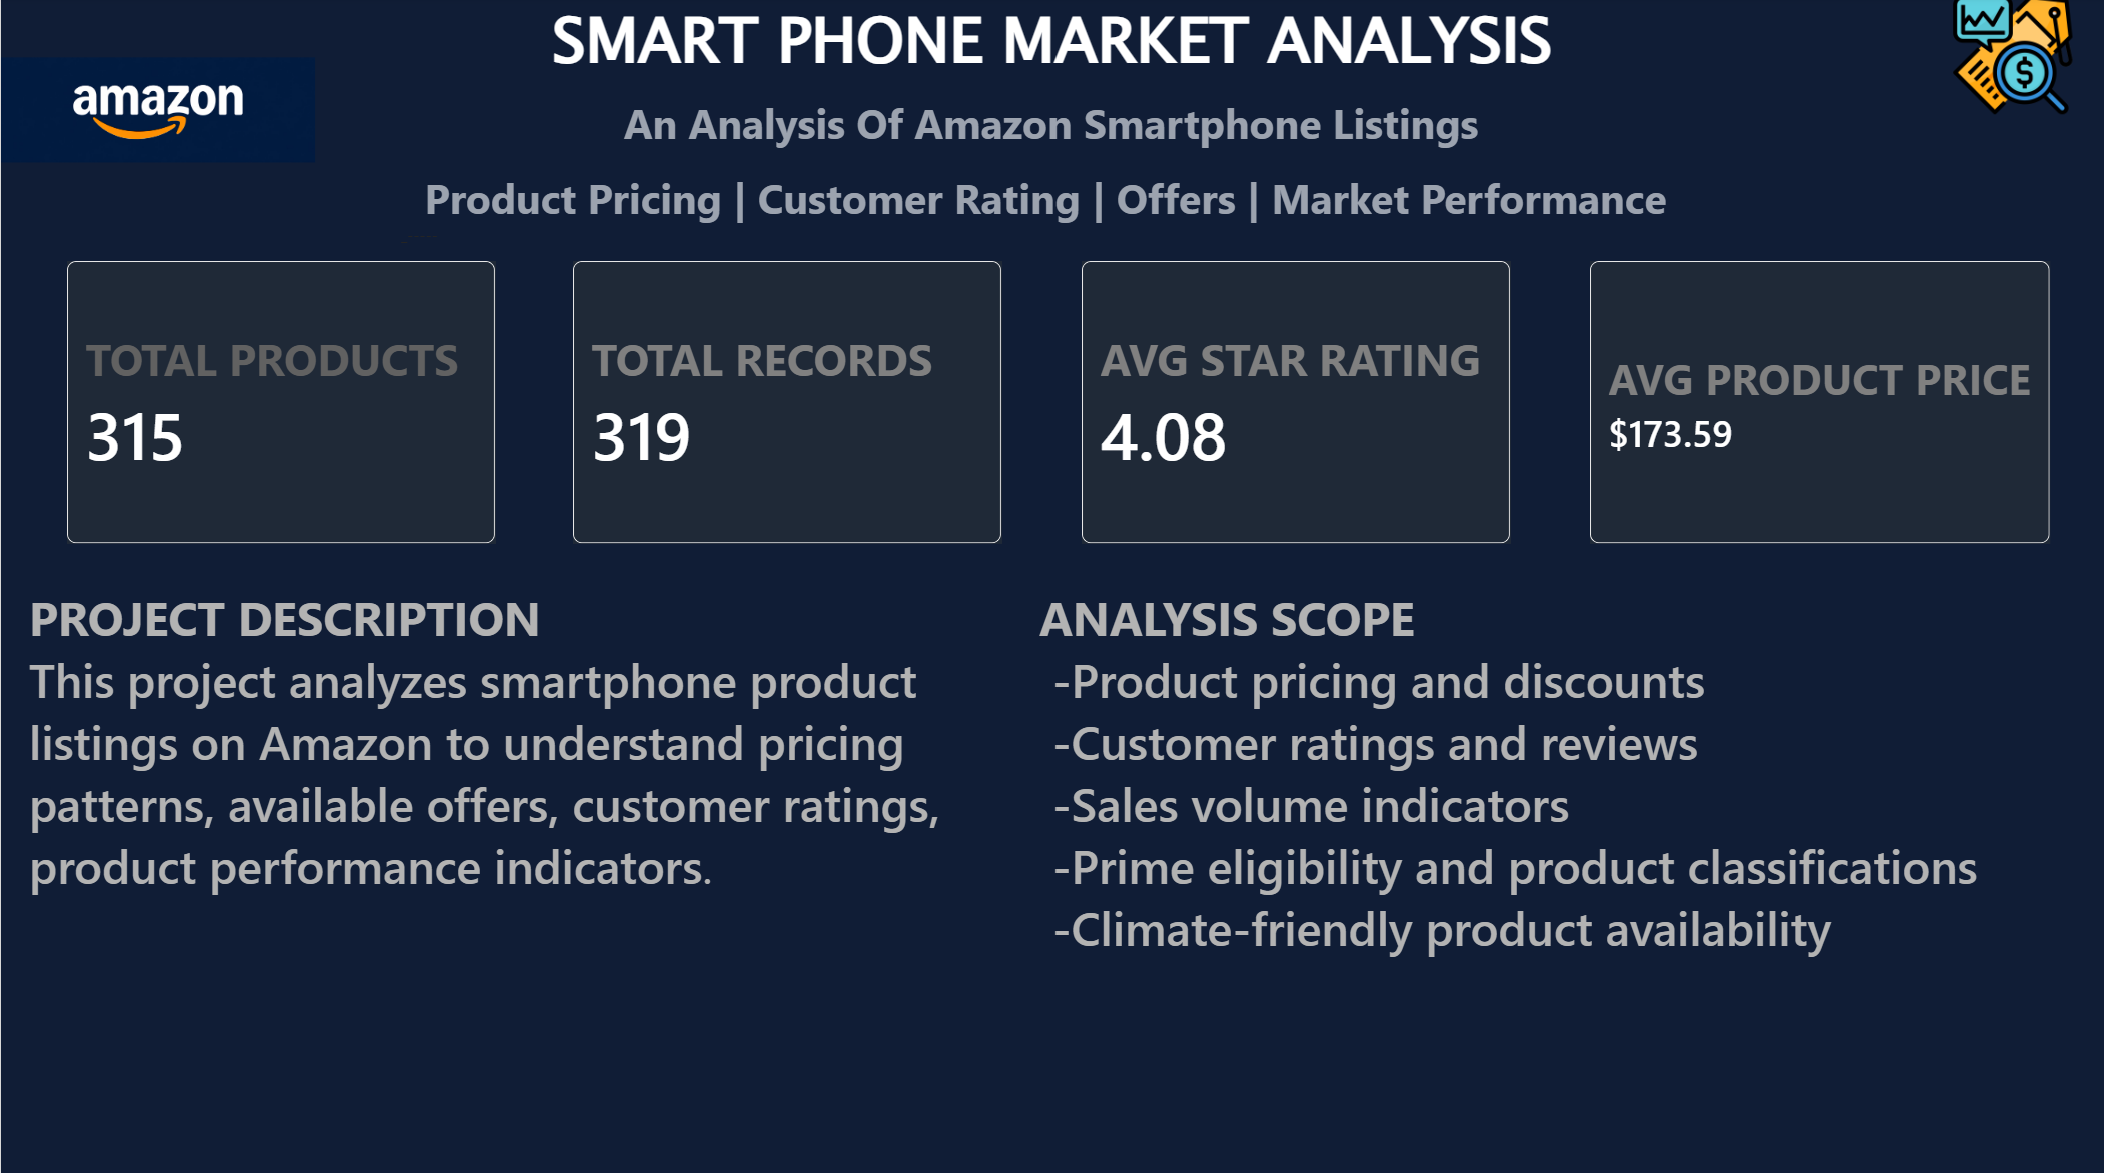

The page's visual inventory and layout, read from the dashboard file:
{"tool":"powerbi","page":{"name":"Overview","canvas":[1920,1080],"ordinal":0},"visuals":[{"type":"textbox","box":[465.8,0,988.4,181.8],"z":0},{"type":"textbox","box":[366.4,90.9,1187.2,181.8],"z":1000},{"type":"cardVisual","fields":{"Data":["MEASURES (2).TOTAL PRODUCTS"]},"box":[59.6,242.8,392,258.5],"z":2000},{"type":"cardVisual","fields":{"Data":["MEASURES (2).TOTAL RECORDS"]},"box":[523.6,242.8,392,258.5],"z":3000},{"type":"cardVisual","fields":{"Data":["MEASURES (2).AVG PRODUCT PRICE"]},"box":[1451.4,242.8,420.4,258.5],"z":4000},{"type":"cardVisual","fields":{"Data":["MEASURES (2).AVG STAR RATING"]},"box":[987.5,242.8,392,258.5],"z":5000},{"type":"textbox","box":[25.6,539.6,923.1,389.1],"z":6000},{"type":"textbox","box":[948.6,539.6,934.4,360.7],"z":7000},{"type":"image","box":[0,0,287,210],"z":8000},{"type":"image","box":[1753.9,0,166.1,109.2],"z":9000}]}

Visuals, with their boxes in screenshot pixels (x1, y1, x2, y2), scaled from the page's 1920x1080 canvas onto the 2104x1173 screenshot:
textbox: (510, 0, 1594, 197)
textbox: (402, 99, 1702, 296)
cardVisual - MEASURES (2).TOTAL PRODUCTS: (65, 264, 495, 544)
cardVisual - MEASURES (2).TOTAL RECORDS: (574, 264, 1003, 544)
cardVisual - MEASURES (2).AVG PRODUCT PRICE: (1590, 264, 2051, 544)
cardVisual - MEASURES (2).AVG STAR RATING: (1082, 264, 1512, 544)
textbox: (28, 586, 1040, 1009)
textbox: (1040, 586, 2063, 978)
image: (0, 0, 315, 228)
image: (1922, 0, 2103, 119)
